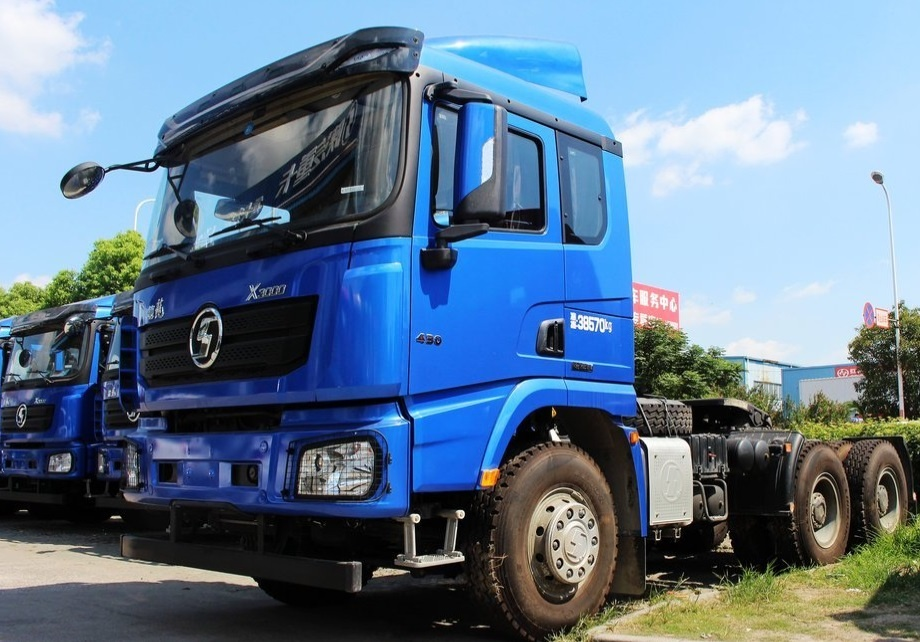heavy truck: (105, 46, 886, 604)
